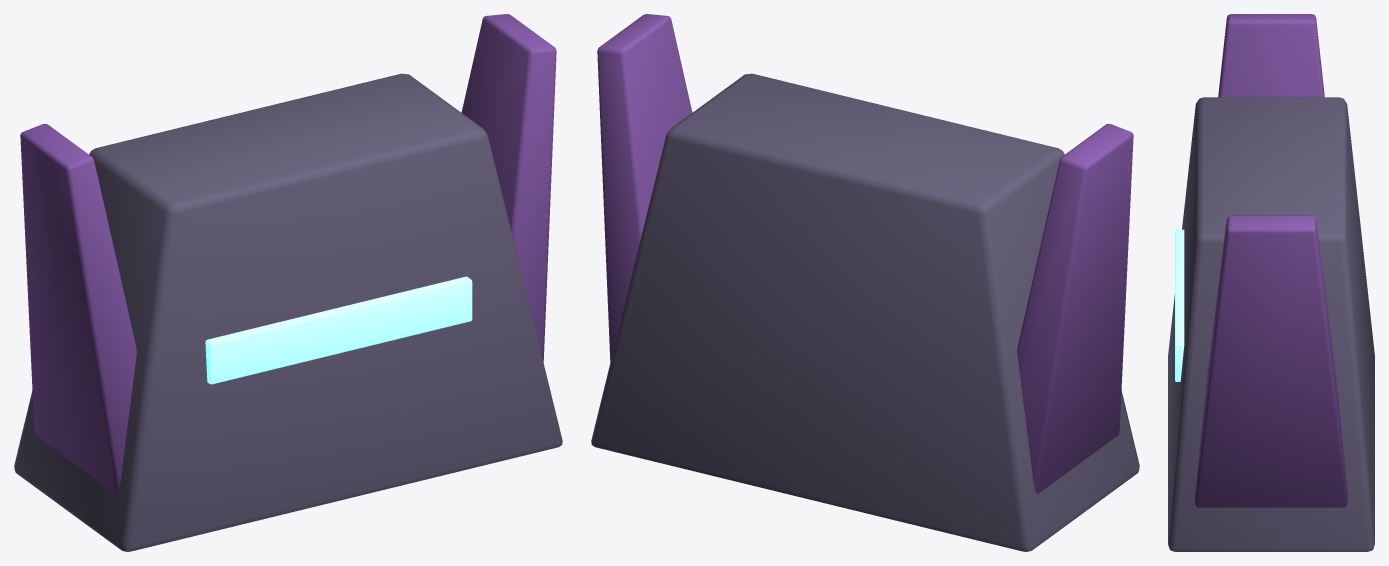
The model's file is abyss_monolith_cover.glb.
3 renders of one model, left to right at view 1: azimuth 30°, elevation 25°; view 2: azimuth 150°, elevation 25°; view 3: azimuth 270°, elevation 25°, orthographic. The views are drawn at different scales.
Visible parts, largest first — view 1: PropBody_act3_PropObsidian, PropBody_A3_AbyssViolet, PropBody_A3_IceOptic; view 2: PropBody_act3_PropObsidian, PropBody_A3_AbyssViolet; view 3: PropBody_act3_PropObsidian, PropBody_A3_AbyssViolet, PropBody_A3_IceOptic.
Boxes of the visible parts, bbox=[...] form: PropBody_act3_PropObsidian: bbox=[14, 73, 562, 551]; PropBody_A3_AbyssViolet: bbox=[20, 14, 556, 494]; PropBody_A3_IceOptic: bbox=[205, 276, 472, 384]; PropBody_act3_PropObsidian: bbox=[591, 73, 1139, 551]; PropBody_A3_AbyssViolet: bbox=[597, 14, 1133, 494]; PropBody_act3_PropObsidian: bbox=[1168, 97, 1374, 551]; PropBody_A3_AbyssViolet: bbox=[1195, 14, 1347, 507]; PropBody_A3_IceOptic: bbox=[1175, 229, 1184, 381].
Size of the model in its own units: 2.71 by 1.97 by 1.09.
